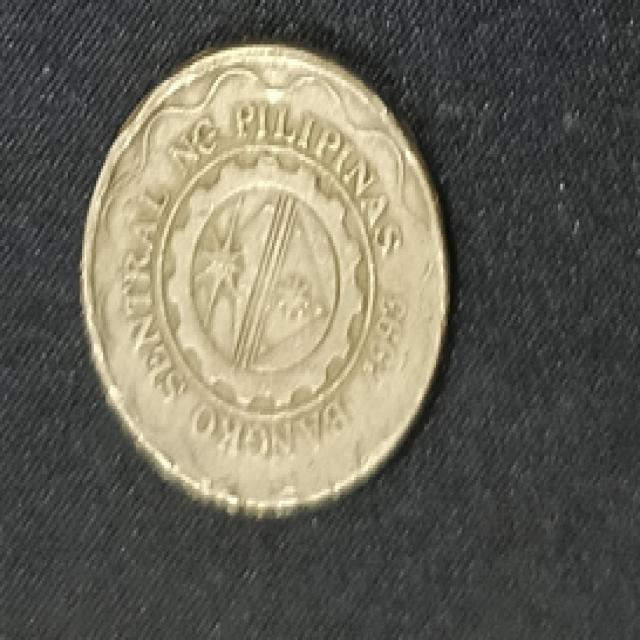5_peso: (82, 44, 445, 510)
